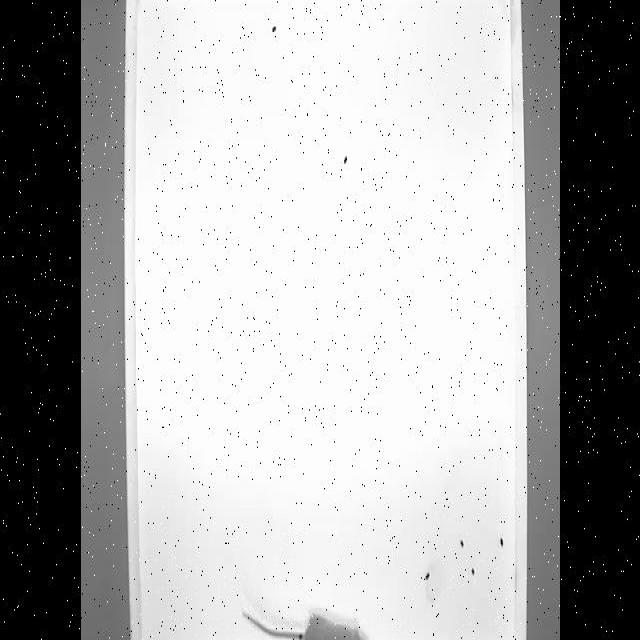rat: (241, 598, 371, 640)
